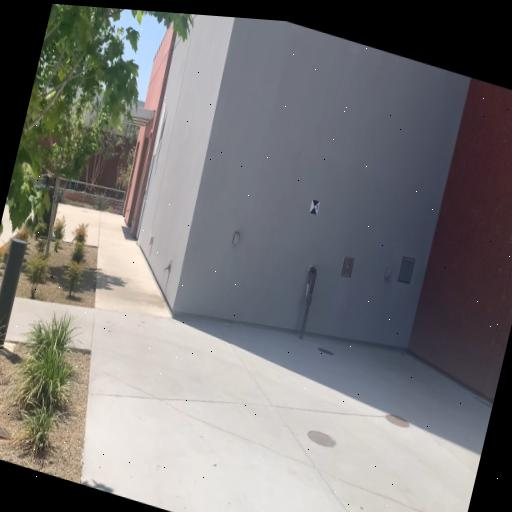target3: (309, 198, 320, 216)
